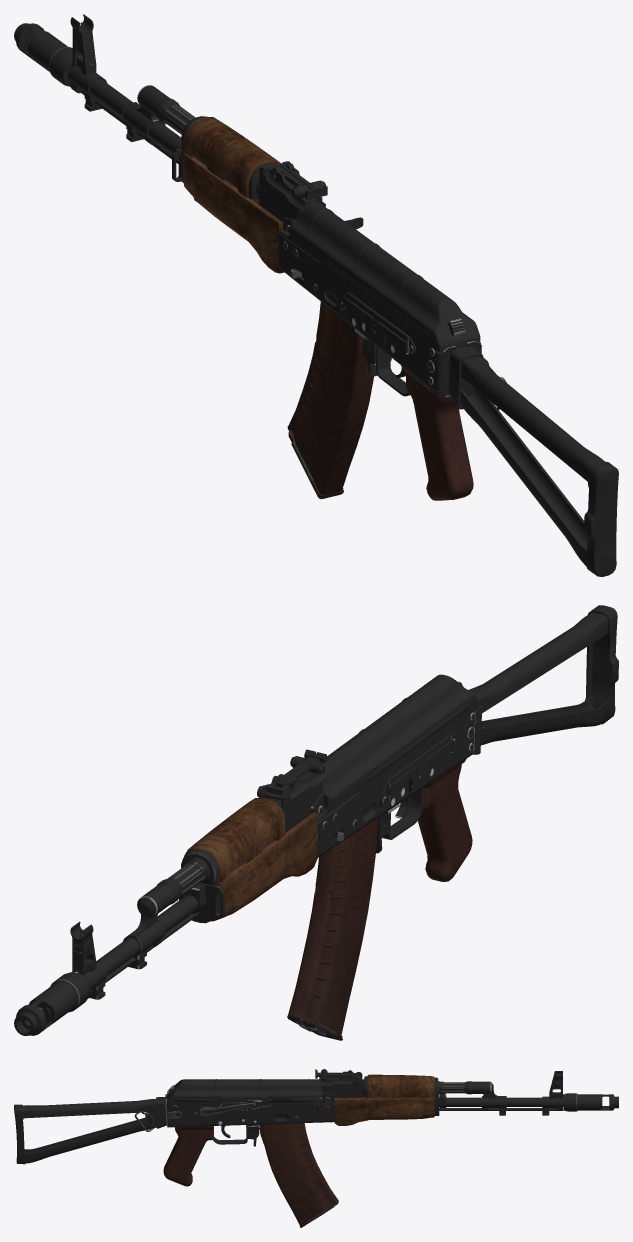
The model's file is AKS-74.fbx.
The picture shows the model from 3 angles, top to bottom: view 1: azimuth 30°, elevation 25°; view 2: azimuth 150°, elevation 25°; view 3: azimuth 270°, elevation 25°; orthographic projection. The views are drawn at different scales.
Parts seen in each view (by area): view 1: AKS-74_body, AK-74_polymer_mag30, AK-74_wooden_furniture.001, AK-74_grip.002; view 2: AKS-74_body, AK-74_polymer_mag30, AK-74_wooden_furniture.001, AK-74_grip.002; view 3: AKS-74_body, AK-74_polymer_mag30, AK-74_wooden_furniture.001, AK-74_grip.002.
Boxes of the visible parts, x1,y1,x2,y2 form: AKS-74_body: (14, 14, 618, 576); AK-74_polymer_mag30: (287, 301, 373, 499); AK-74_wooden_furniture.001: (183, 117, 284, 273); AK-74_grip.002: (401, 365, 473, 500); AKS-74_body: (14, 605, 618, 1035); AK-74_polymer_mag30: (287, 818, 378, 1040); AK-74_wooden_furniture.001: (184, 798, 317, 921); AK-74_grip.002: (417, 759, 472, 881); AKS-74_body: (14, 1069, 618, 1164); AK-74_polymer_mag30: (259, 1123, 338, 1227); AK-74_wooden_furniture.001: (334, 1074, 434, 1125); AK-74_grip.002: (163, 1126, 213, 1186).
Size of the model in its own units: 6.89 by 26.12 by 93.16.
